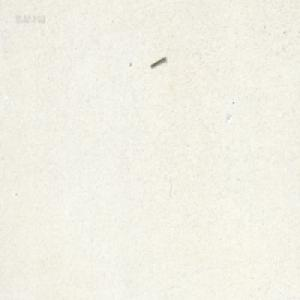Bolt: (149, 57, 165, 69)
